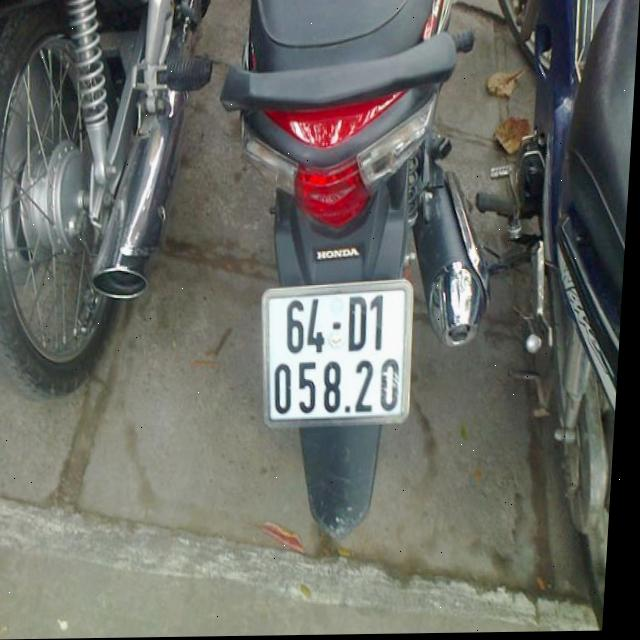motorcycle: (200, 0, 509, 562), (458, 0, 640, 616), (0, 0, 219, 411)
plate: (251, 278, 422, 428)
